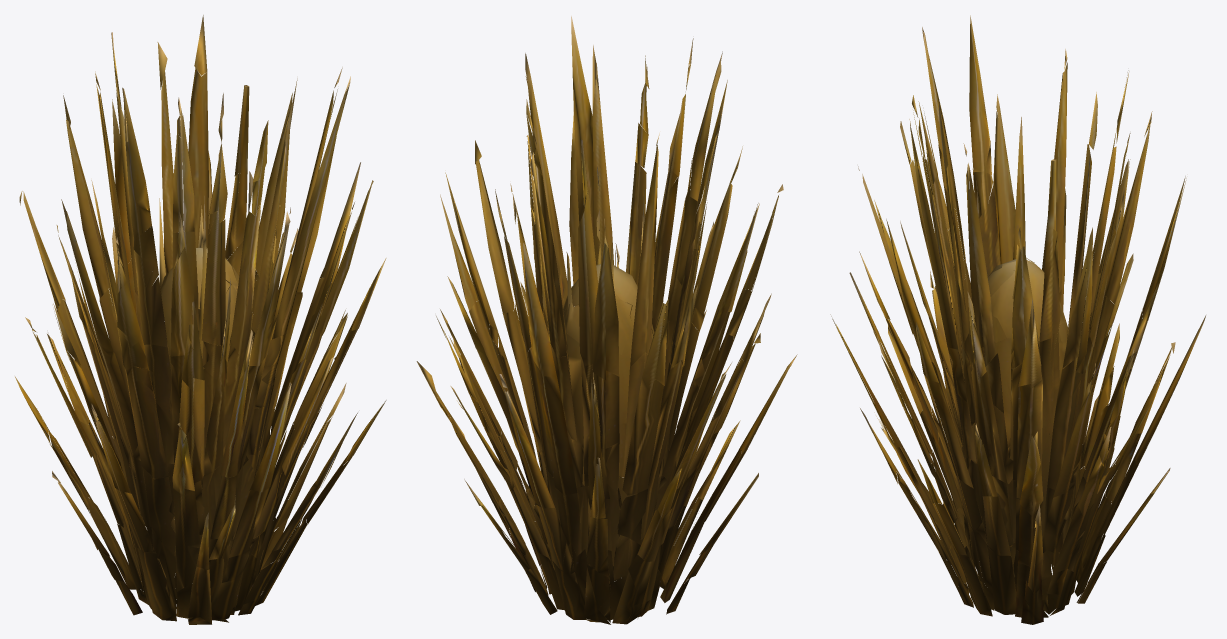
Rendered from desert_grass_blades_single.glb.
3 renders of one model, left to right at view 1: azimuth 30°, elevation 25°; view 2: azimuth 150°, elevation 25°; view 3: azimuth 270°, elevation 25°, orthographic. The views are drawn at different scales.
Parts seen in each view (by area): view 1: desert_grass_blades_single; view 2: desert_grass_blades_single; view 3: desert_grass_blades_single.
Part boxes in pixels (x1=…): desert_grass_blades_single: x1=15, y1=15, x2=386, y2=624; desert_grass_blades_single: x1=416, y1=16, x2=797, y2=624; desert_grass_blades_single: x1=830, y1=15, x2=1205, y2=624.
Bounding box in the file's own units: 0.6182 × 1 × 0.6462.
1 material, 1 textured.
